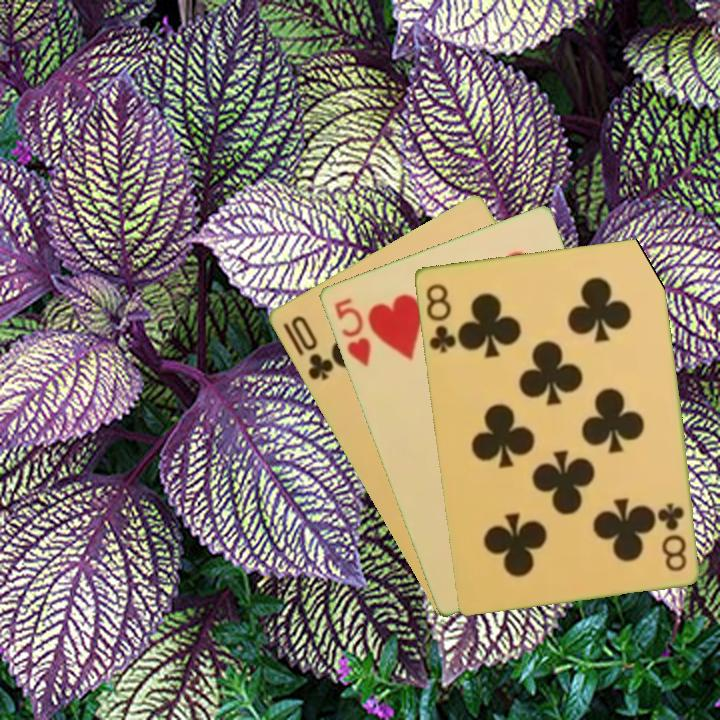10c: (278, 311, 336, 383)
5h: (330, 294, 373, 370)
8c: (422, 280, 458, 355), (655, 499, 689, 574)
